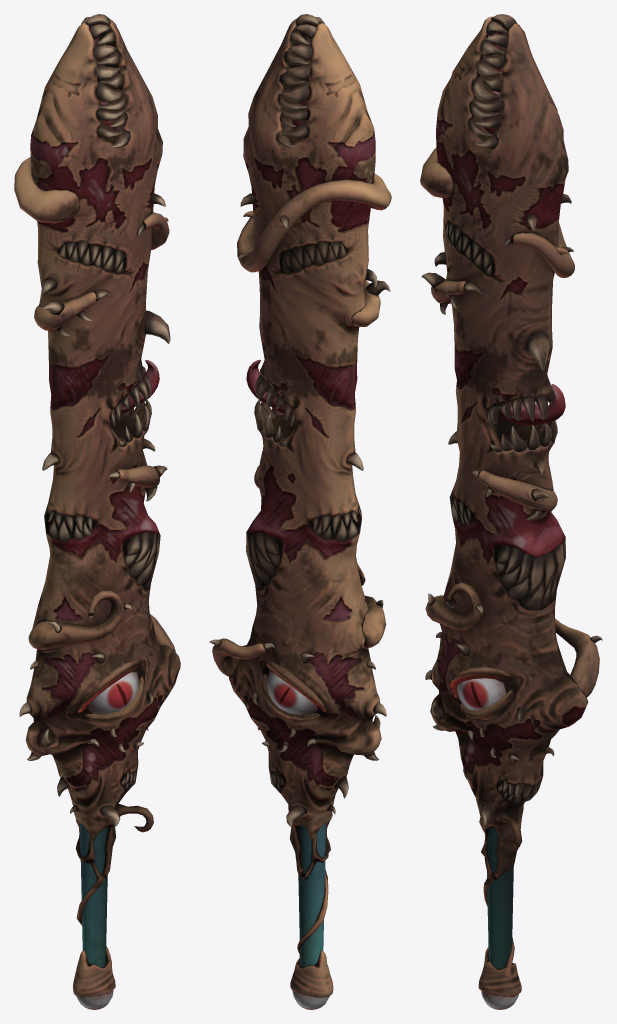
The model's file is sm_sword_204.gltf.
The picture shows the model from 3 angles, left to right: view 1: azimuth 30°, elevation 25°; view 2: azimuth 150°, elevation 25°; view 3: azimuth 330°, elevation 25°; orthographic projection.
Parts seen in each view (by area): view 1: sm_sword_204; view 2: sm_sword_204; view 3: sm_sword_204.
Boxes of the visible parts, x1,y1,x2,y2 form: sm_sword_204: [14, 14, 180, 1009]; sm_sword_204: [209, 14, 391, 1009]; sm_sword_204: [420, 14, 602, 1009].
Size of the model in its own units: 0.256 by 1.5 by 0.1749.
1 material, 1 textured.
